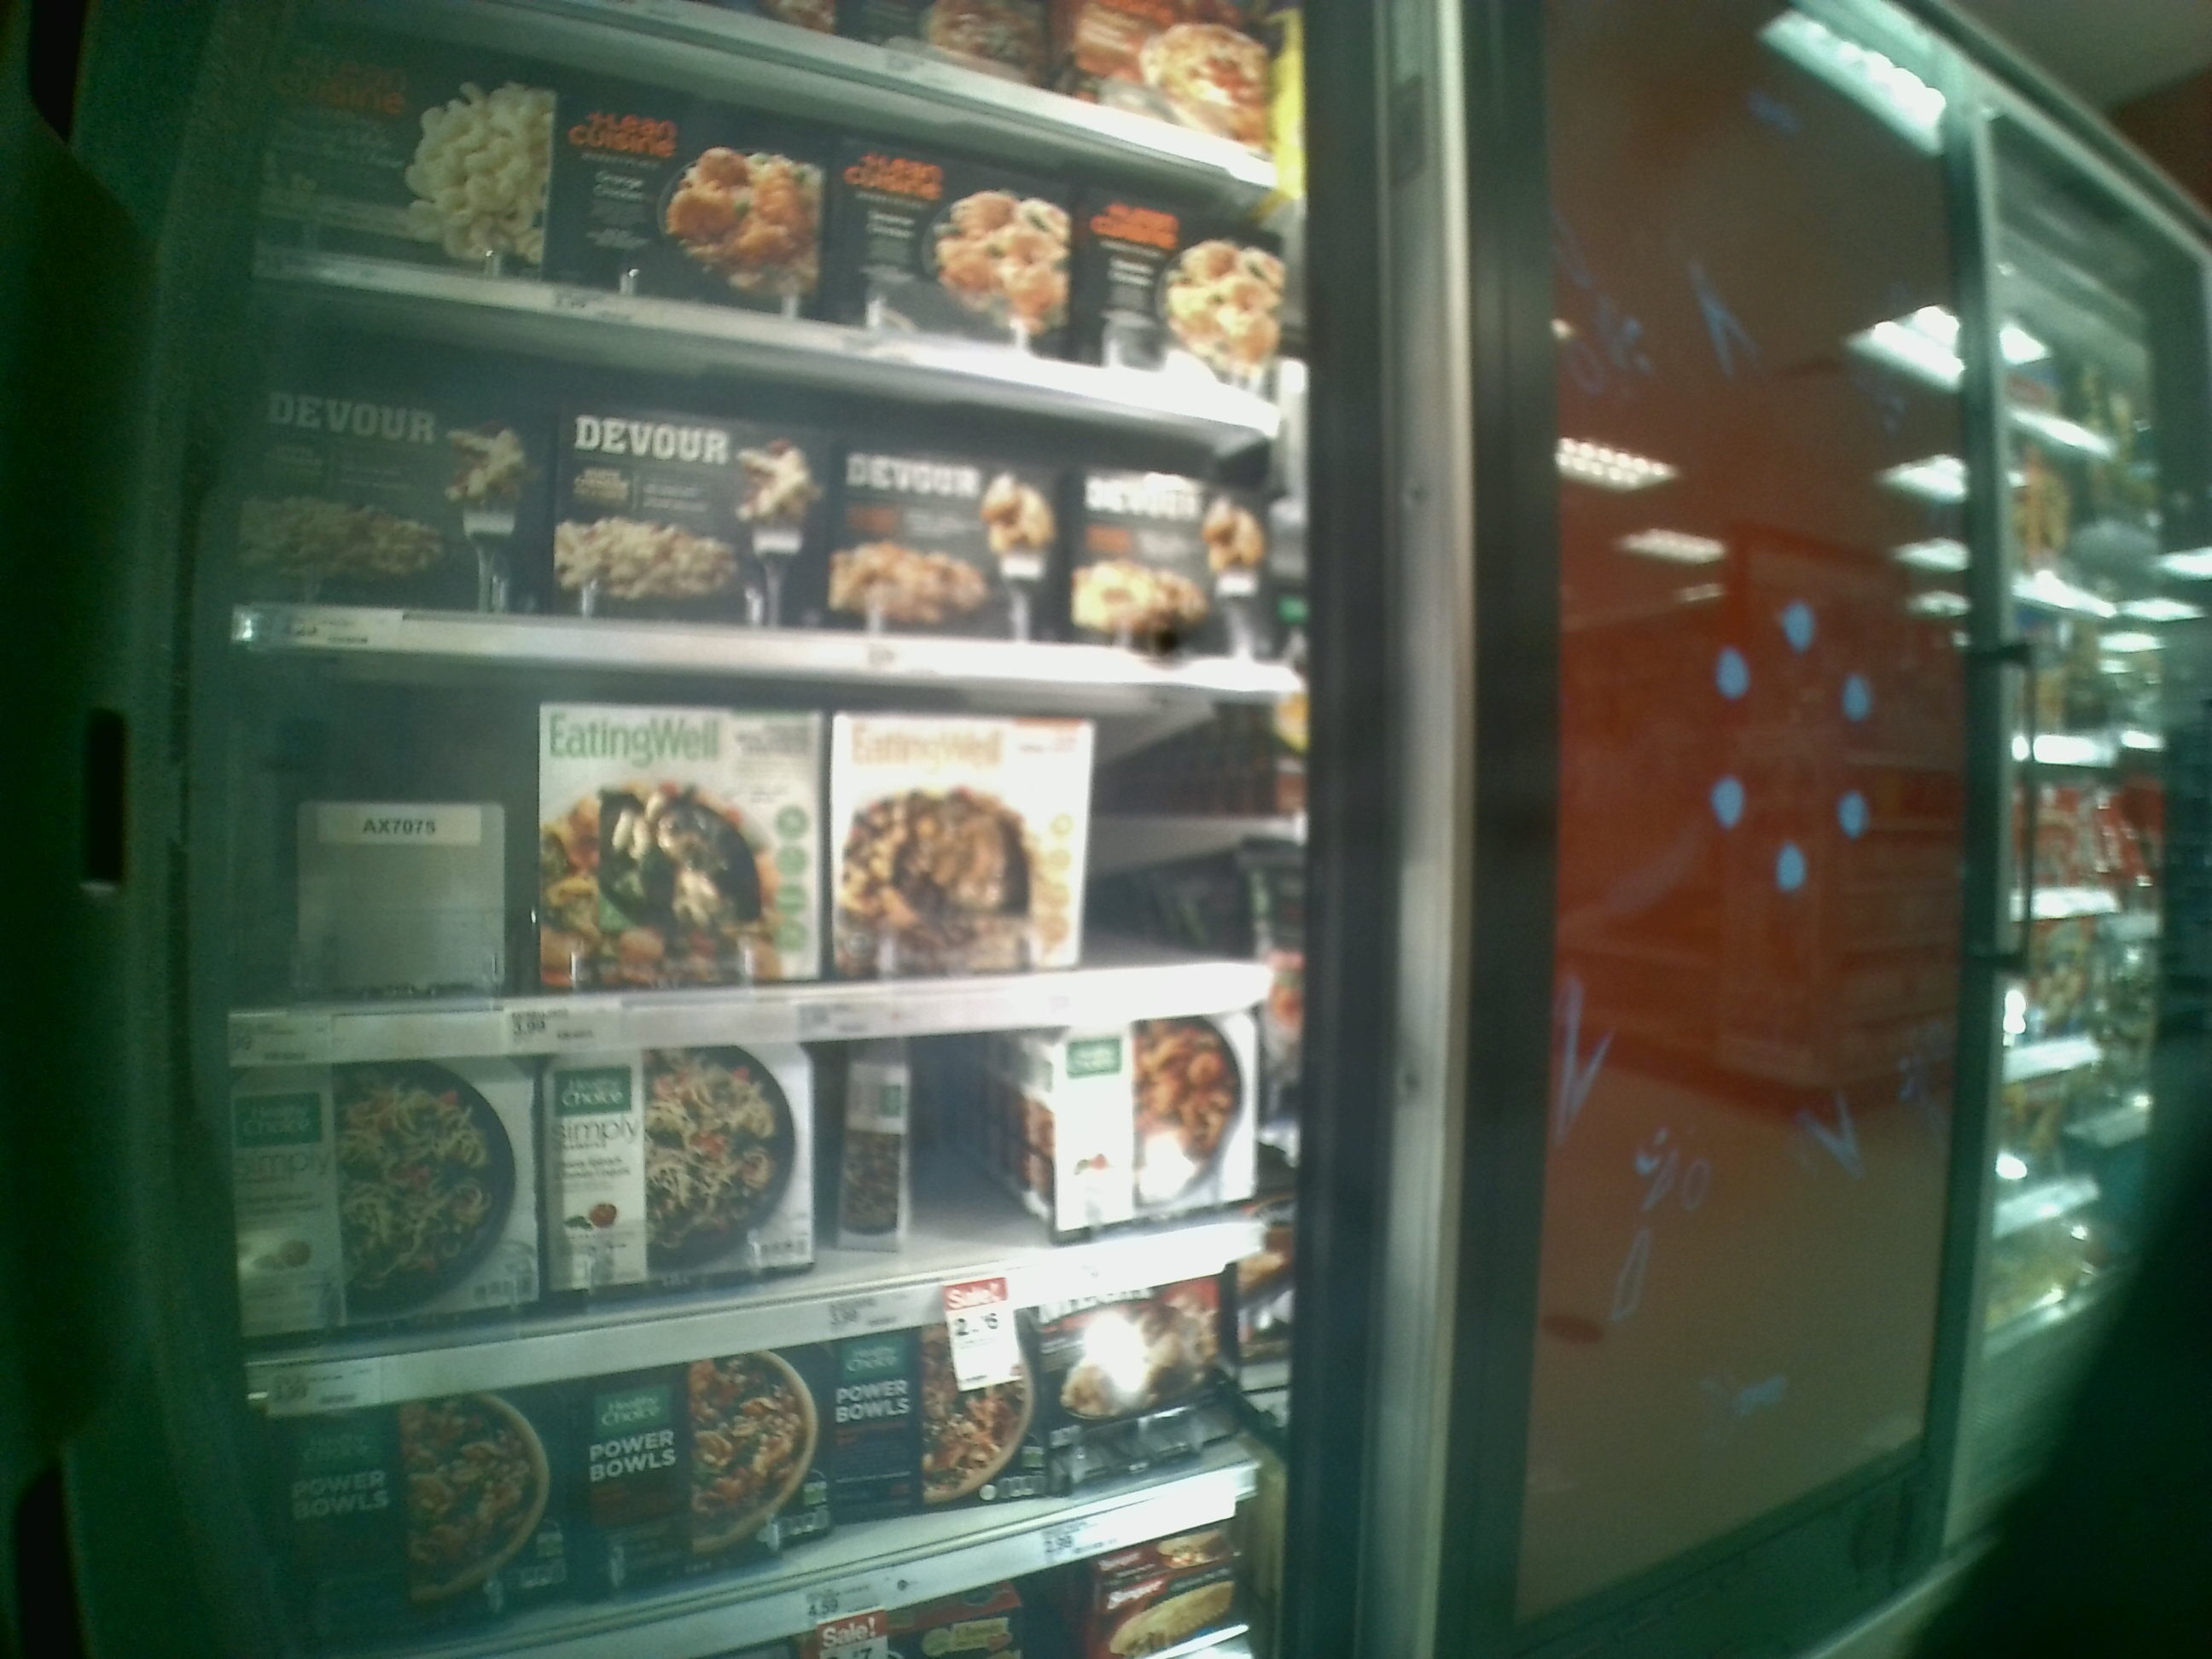shelf: (242, 274, 1306, 697), (237, 999, 1313, 1417), (232, 650, 1306, 1068)
